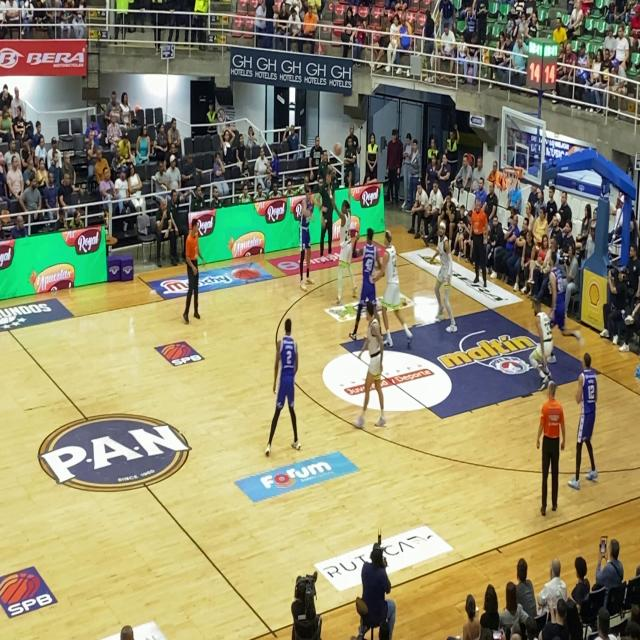Ball: (329, 138, 343, 159)
referee: (532, 366, 570, 536), (180, 218, 210, 332), (472, 192, 495, 312)
team1: (356, 289, 388, 444), (434, 215, 466, 336), (381, 216, 408, 356), (520, 296, 561, 388), (332, 198, 356, 328)
team2: (265, 308, 309, 476), (569, 339, 602, 505), (548, 233, 580, 354), (293, 178, 321, 299), (351, 231, 381, 331)
ubasket: (502, 164, 520, 192)
